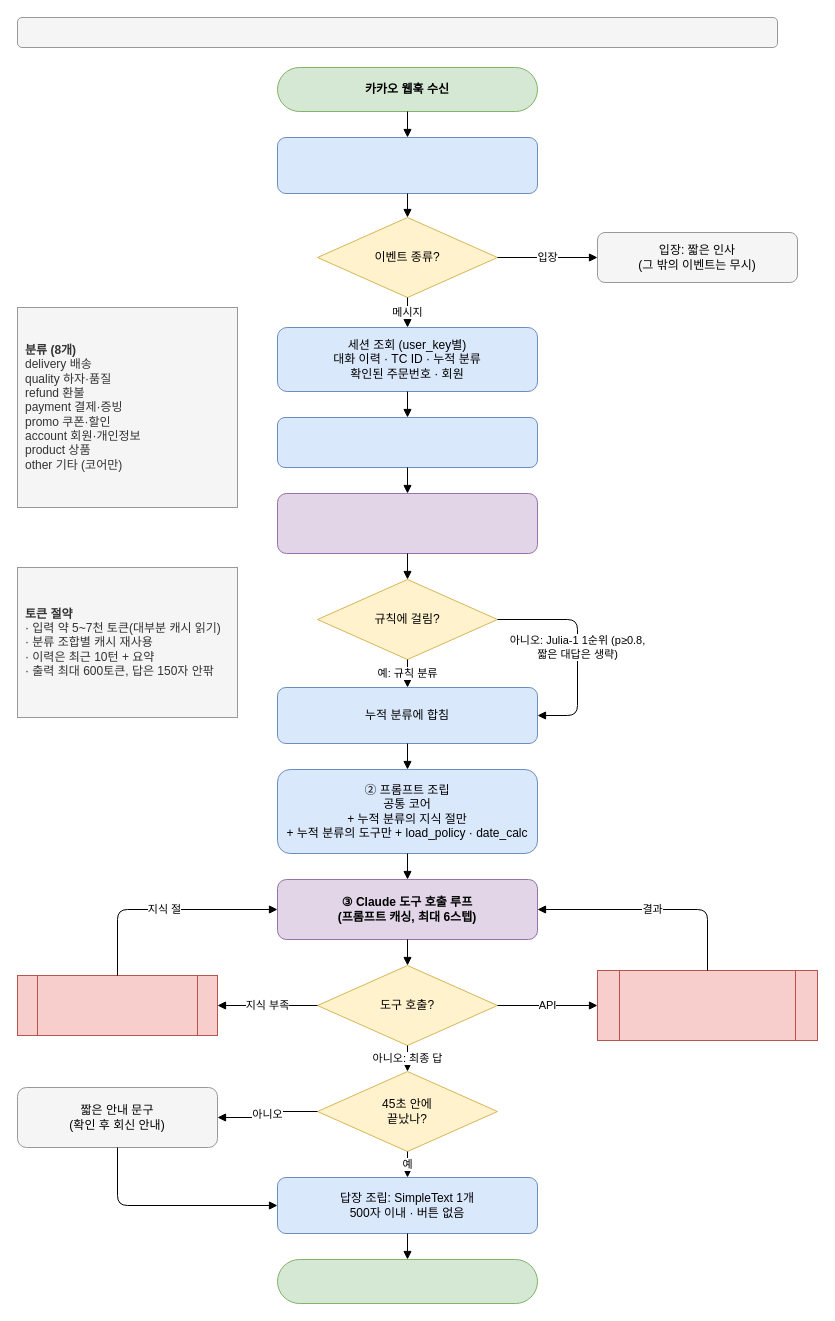
Image size: 835x1321. Some labels were removed from this diagram. Here are the shapes that lost their labels. From the top down, the centre of each, then its label:
pixel 397 32: 메시지 처리 흐름 (목표 구조: 분류 → 분류별 프롬프트 → Claude)
pixel 407 165: 비밀 헤더 확인 · 중복 제거 → 1초 안에 204 응답
pixel 407 442: TC ID가 보이면 추출해 세션에 고정
pixel 407 523: ① 분류 classify.choose 단어 규칙 우선 (토큰 0)
pixel 117 1005: load_policy(분류) 빠진 지식 절을 불러옴
pixel 707 1005: 액션 API 호출 TC 헤더 · 접수 전 조회 확인 결과는 필요한 필드만
pixel 407 1281: 메시지 콜백 API로 전송
